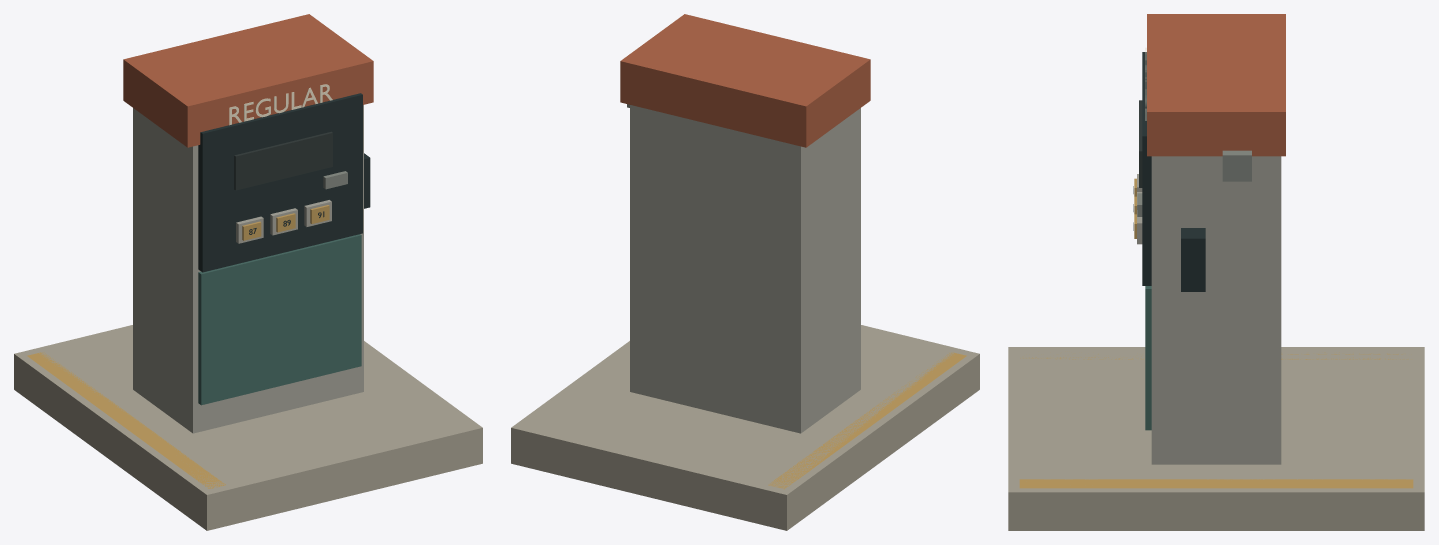
The model's file is dark_fuel_dispenser.glb.
3 renders of one model, left to right at view 1: azimuth 30°, elevation 25°; view 2: azimuth 150°, elevation 25°; view 3: azimuth 270°, elevation 25°, orthographic. The views are drawn at different scales.
Visible parts, largest first — view 1: Concrete island, Gray pump body, Painted lower panel, Cap band, Black upper fascia, Dead LCD, Island curb stripe, REGULAR; view 2: Gray pump body, Concrete island, Cap band, Island curb stripe; view 3: Concrete island, Gray pump body, Cap band, Island curb stripe.001, Black upper fascia, Nozzle cradle, Painted lower panel, Hose coupler.
Boxes of the visible parts, box(x1,y1,x2,y2) form: Concrete island: box(14, 325, 482, 530); Gray pump body: box(133, 105, 363, 433); Painted lower panel: box(198, 234, 361, 405); Cap band: box(123, 14, 373, 147); Black upper fascia: box(198, 93, 362, 272); Dead LCD: box(234, 131, 332, 190); Island curb stripe: box(27, 352, 225, 488); REGULAR: box(229, 84, 332, 125); Gray pump body: box(630, 105, 860, 433); Concrete island: box(511, 325, 979, 530); Cap band: box(620, 14, 870, 147); Island curb stripe: box(768, 352, 966, 489); Concrete island: box(1008, 347, 1424, 530); Gray pump body: box(1151, 156, 1281, 464); Cap band: box(1147, 14, 1285, 156); Island curb stripe.001: box(1019, 479, 1413, 488); Black upper fascia: box(1142, 52, 1151, 285); Nozzle cradle: box(1181, 228, 1205, 291); Painted lower panel: box(1145, 286, 1151, 430); Hose coupler: box(1222, 150, 1251, 181).
Bounding box in the file's own units: 1.23 × 1.56 × 1.49.
